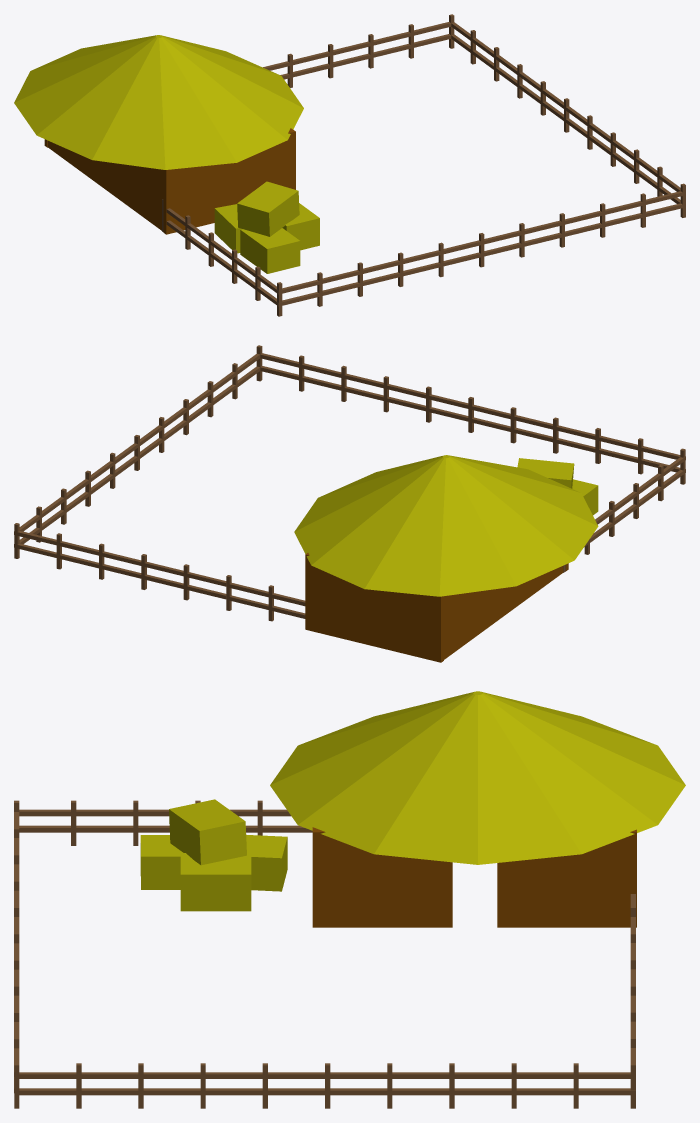
Rendered from To_Godot.glb.
3 renders of one model, top to bottom at view 1: azimuth 30°, elevation 25°; view 2: azimuth 150°, elevation 25°; view 3: azimuth 270°, elevation 25°, orthographic. The views are drawn at different scales.
Parts seen in each view (by area): view 1: Cone, Cube.013, Cube.003, Cube.002, Cube.017, Cube.015, Cube.016, Cube.014; view 2: Cone, Cube.013, Cube.001, Cube.002, Cube.017, Cube.015; view 3: Cone, Cube.013, Cube.005, Cube.004, Cube.017, Cube.016, Cube.015, Cube.014, Cube.003.
Part boxes in pixels (x1,y1,x2,y2): Cone: (14, 35, 303, 169); Cube.013: (162, 14, 685, 316); Cube.003: (163, 129, 295, 234); Cube.002: (48, 140, 163, 230); Cube.017: (237, 181, 299, 236); Cube.015: (240, 228, 300, 273); Cube.016: (282, 203, 319, 250); Cube.014: (214, 204, 242, 253); Cone: (294, 455, 598, 596); Cube.013: (14, 345, 685, 621); Cube.001: (305, 553, 443, 662); Cube.002: (444, 566, 563, 659); Cube.017: (517, 458, 574, 488); Cube.015: (572, 479, 598, 515); Cone: (270, 691, 685, 864); Cube.013: (14, 800, 635, 1108); Cube.005: (313, 829, 452, 927); Cube.004: (497, 829, 636, 927); Cube.017: (169, 799, 246, 865); Cube.016: (180, 853, 251, 911); Cube.015: (140, 835, 183, 889); Cube.014: (246, 835, 287, 891); Cube.003: (312, 827, 319, 927).
Size of what is drawn, in the model's own units: 15.87 by 4.48 by 14.58.
